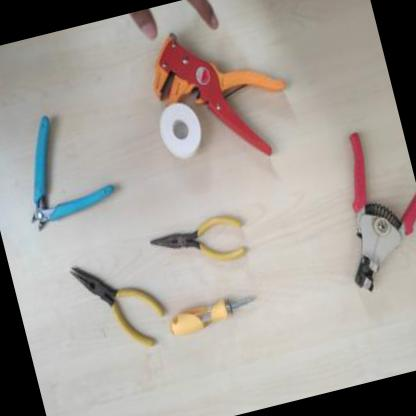Screwdriver: (159, 279, 268, 346)
